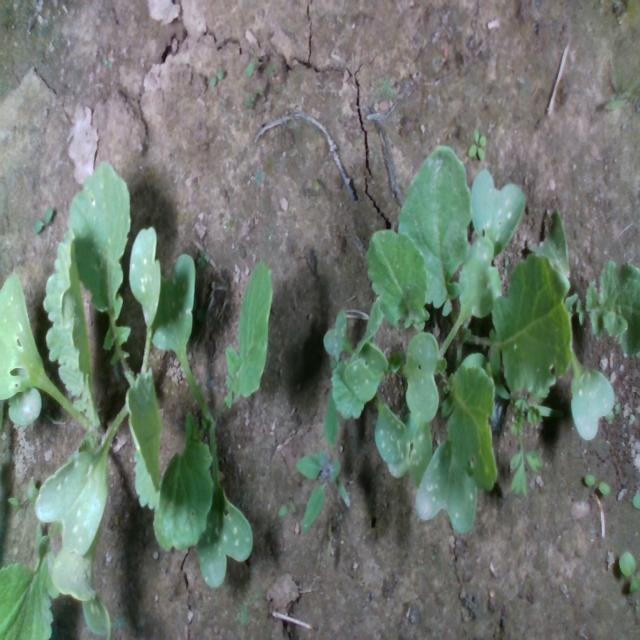weed: (466, 126, 486, 162), (582, 472, 610, 495), (34, 204, 54, 234)
